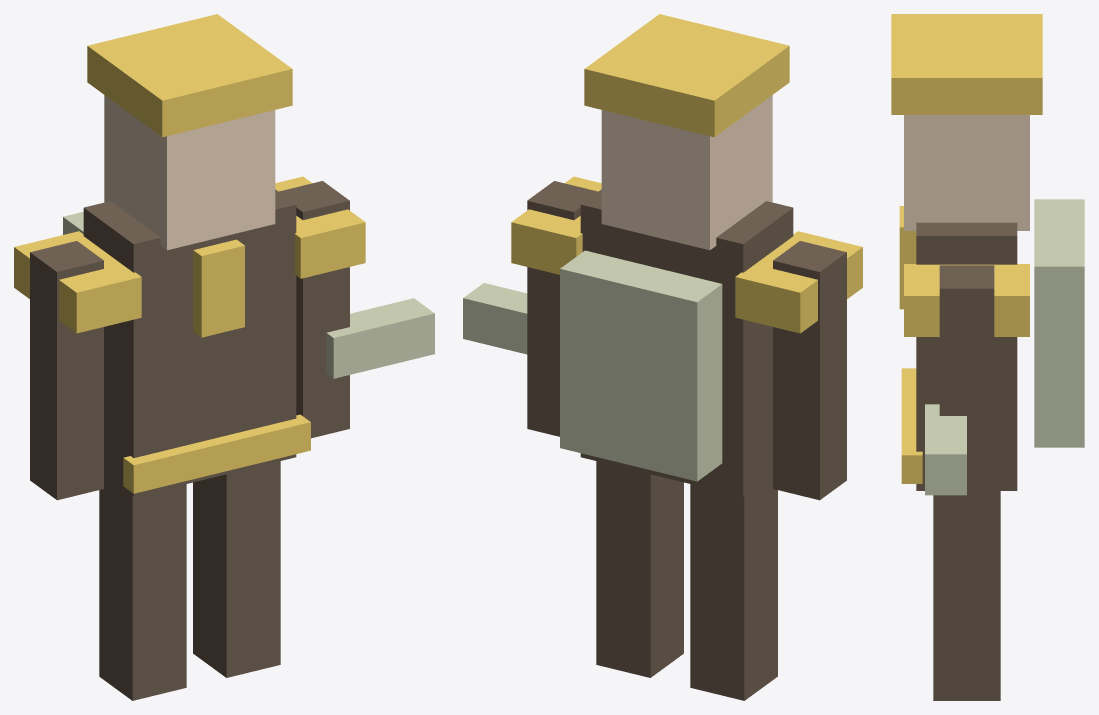
Rendered from 17_tamsin_voidrill_keeper_from_hidden.glb.
The picture shows the model from 3 angles, left to right: view 1: azimuth 30°, elevation 25°; view 2: azimuth 150°, elevation 25°; view 3: azimuth 270°, elevation 25°; orthographic projection.
Parts seen in each view (by area): view 1: Tamsin Voidrill, Keeper from Hidden; view 2: Tamsin Voidrill, Keeper from Hidden; view 3: Tamsin Voidrill, Keeper from Hidden.
Part boxes in pixels (x1,y1,x2,y2): Tamsin Voidrill, Keeper from Hidden: [14, 14, 434, 700]; Tamsin Voidrill, Keeper from Hidden: [463, 14, 862, 700]; Tamsin Voidrill, Keeper from Hidden: [891, 14, 1084, 700].
Bounding box in the file's own units: 1.05 × 1.66 × 0.4712.
